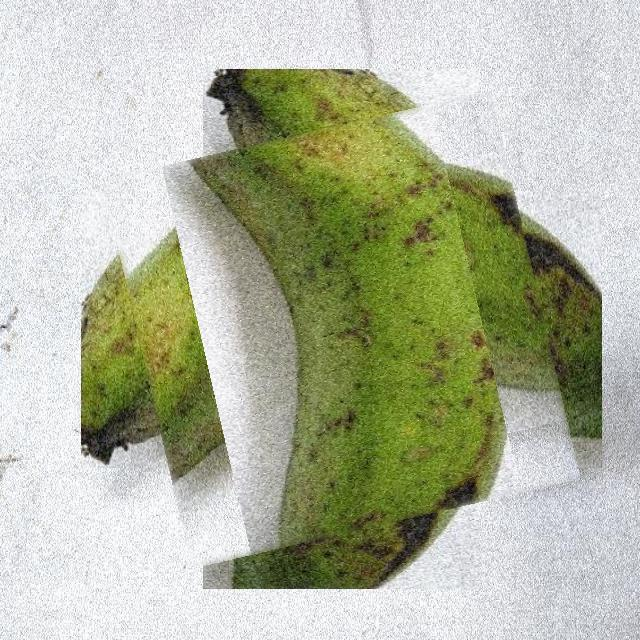Verde: (122, 110, 561, 549)
